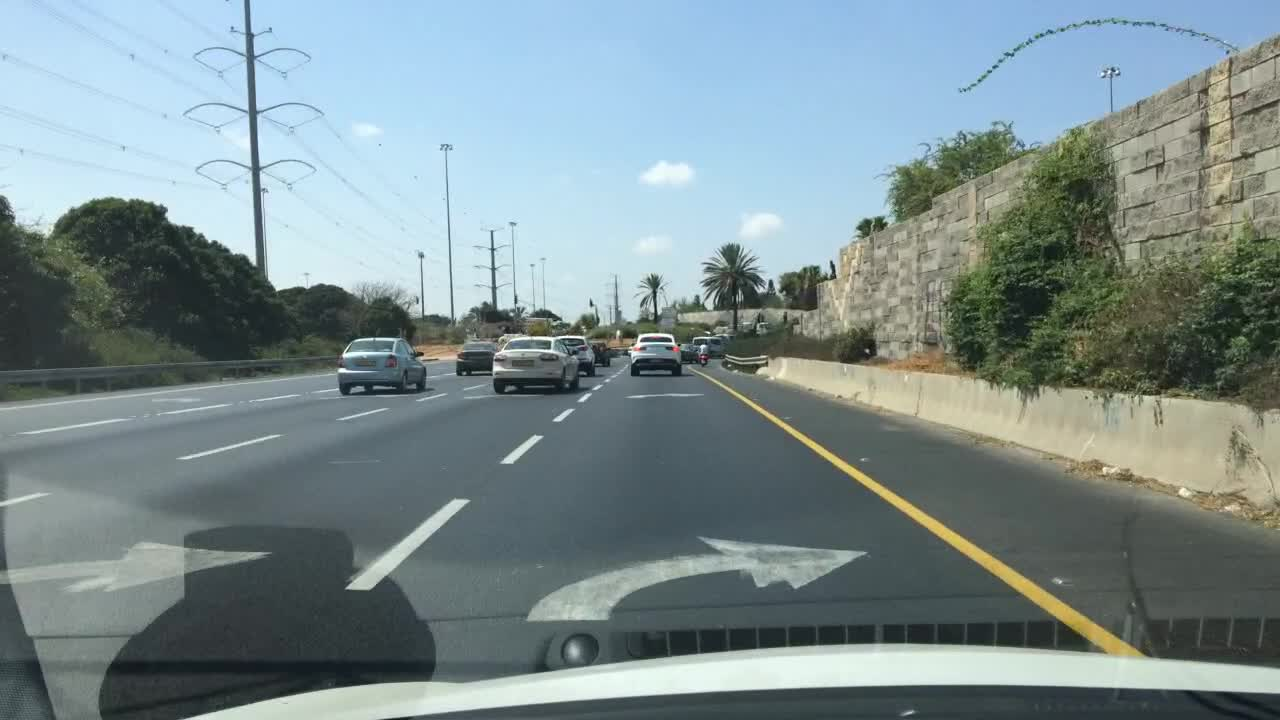car: (336, 336, 427, 395), (494, 336, 580, 394), (627, 333, 682, 375), (454, 343, 497, 374), (561, 336, 597, 373), (692, 334, 724, 355), (592, 341, 611, 366), (681, 344, 696, 361)
motor: (698, 354, 708, 366)
person: (699, 340, 708, 358)
